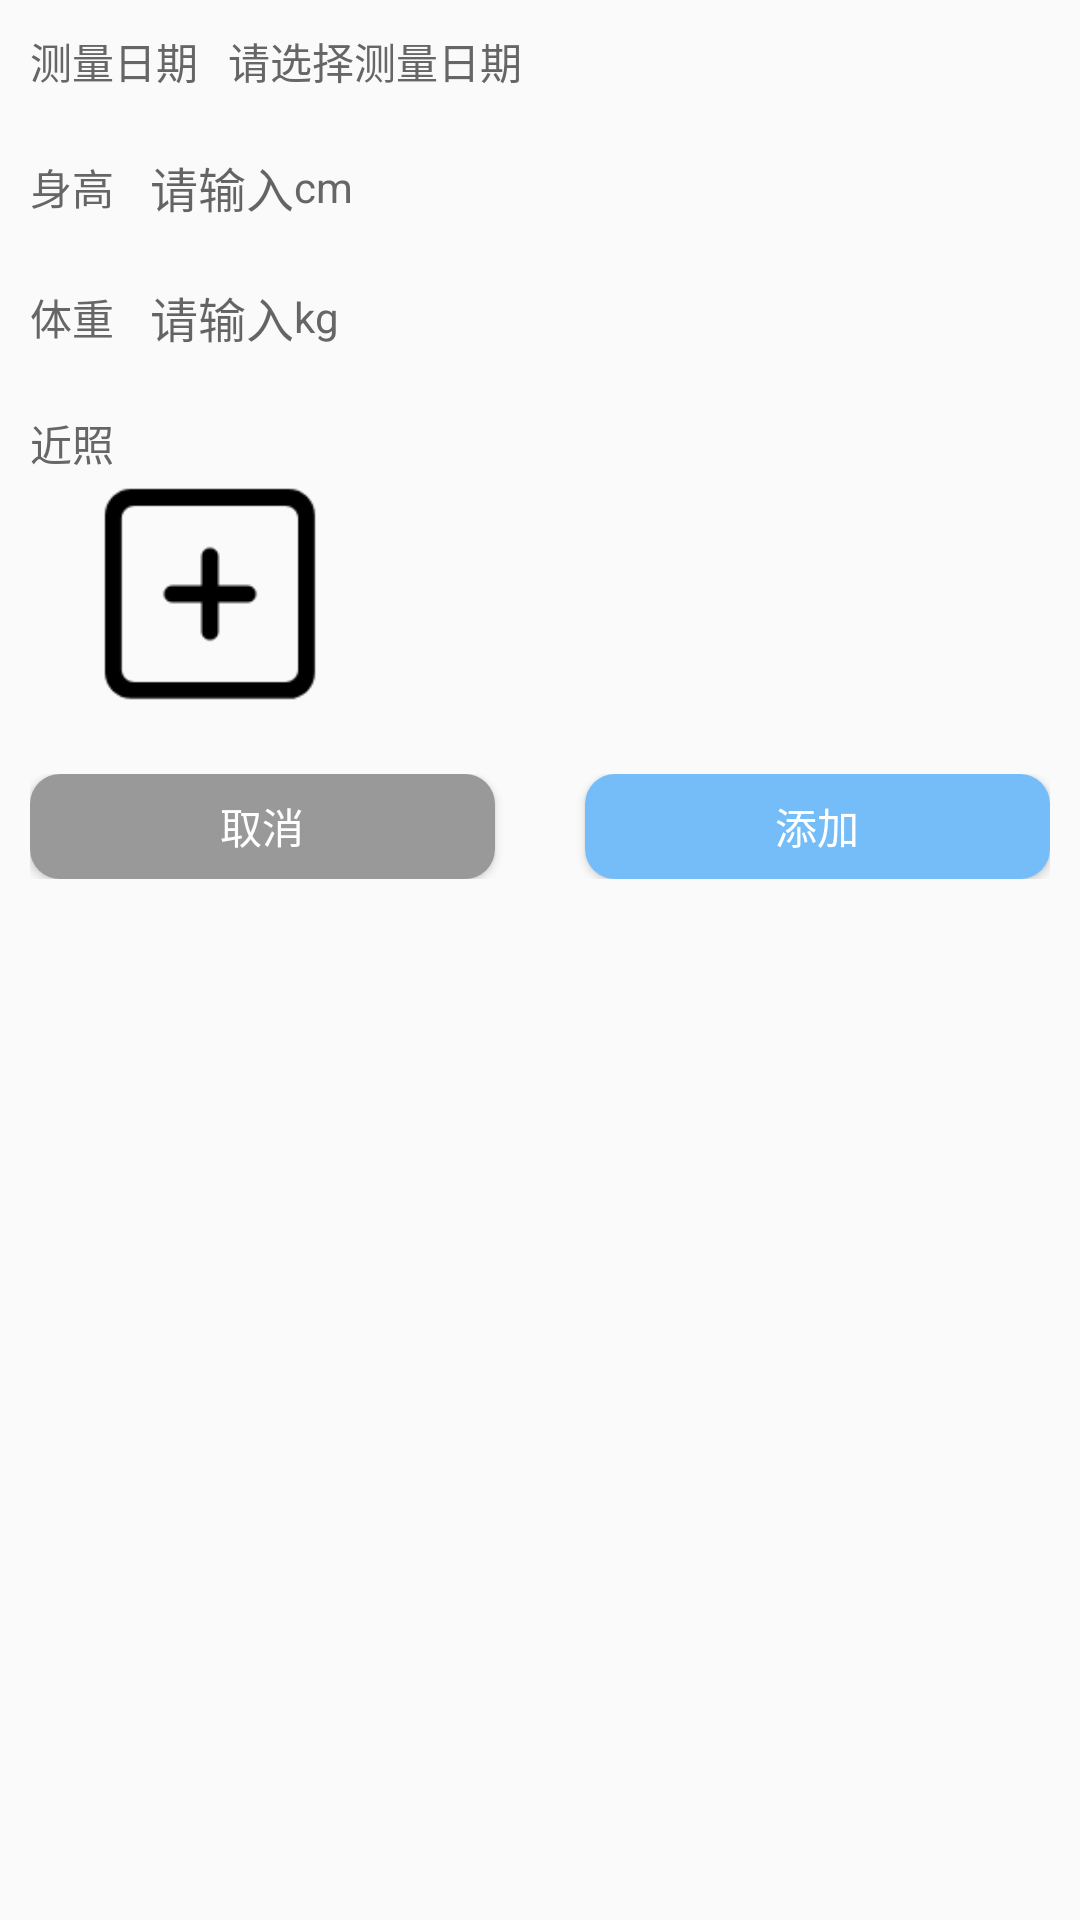

Icons on this 1080*1920 Android screen, each with its box as bbox=(x1, y1, x2, y2):
add: bbox=(104, 488, 316, 700)
